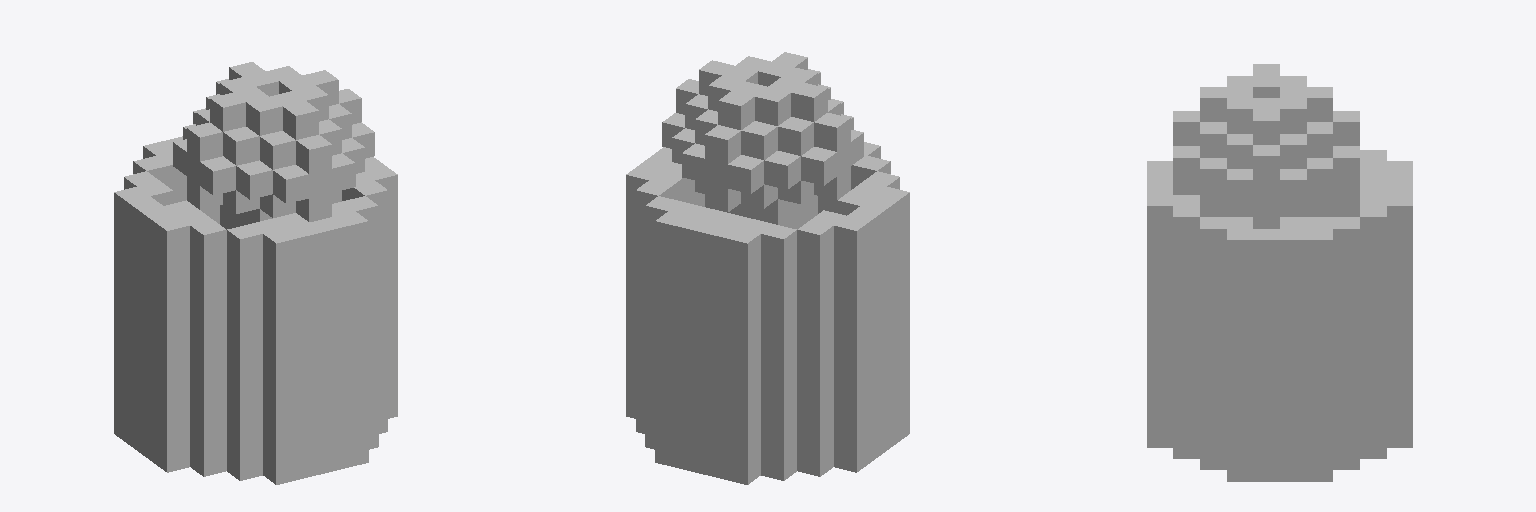
File: plant.obj
The picture shows the model from 3 angles: view 1: azimuth 30°, elevation 25°; view 2: azimuth 150°, elevation 25°; view 3: azimuth 270°, elevation 25°; orthographic projection.
Visible parts, largest first — view 1: plant; view 2: plant; view 3: plant.
Part boxes in pixels (x1,y1,x2,y2): plant: (114, 62, 397, 484); plant: (626, 52, 909, 484); plant: (1147, 64, 1412, 481).
Bounding box in the file's own units: 10 × 14 × 10.